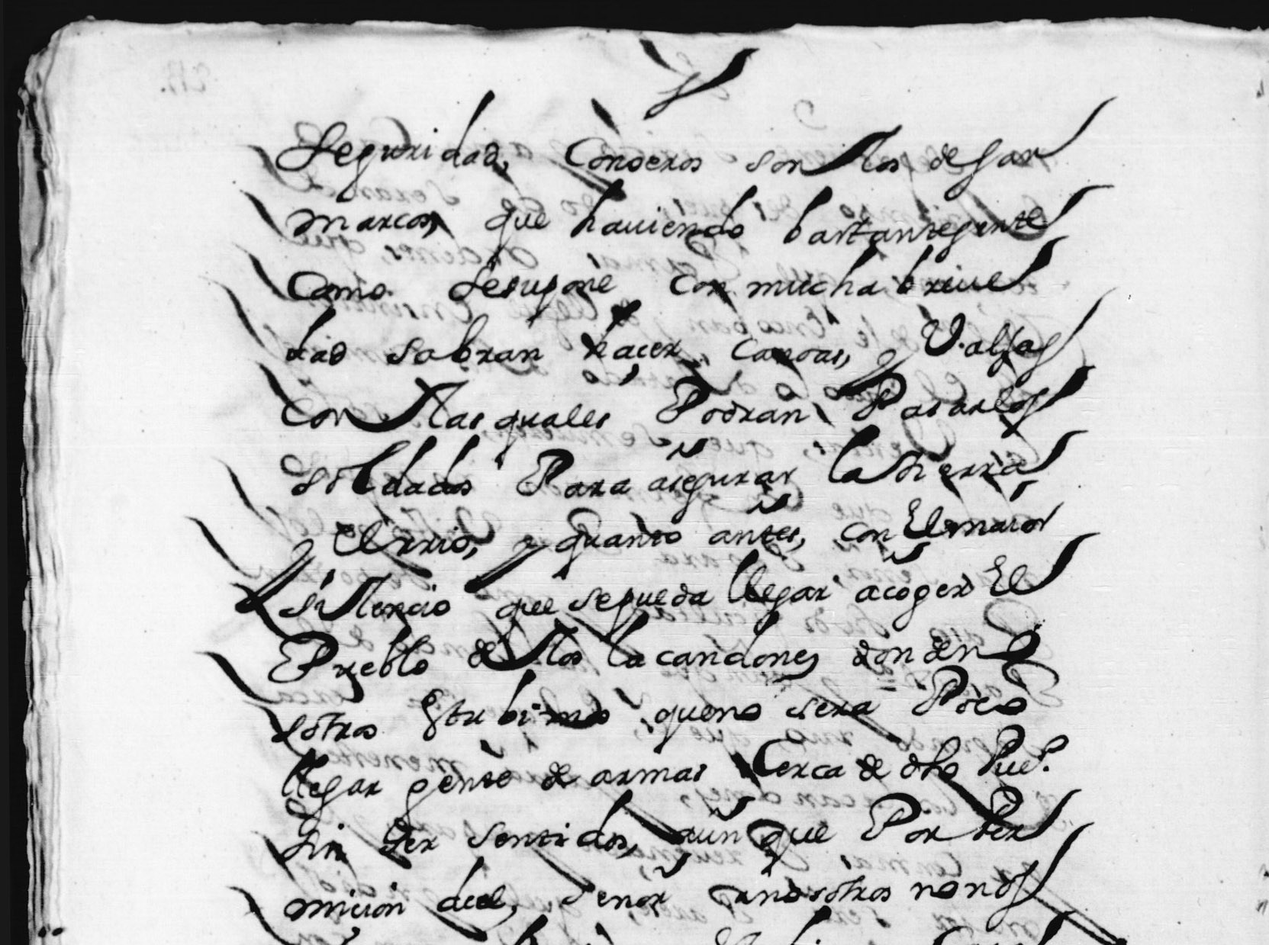lacandon: (607, 609, 818, 683)
